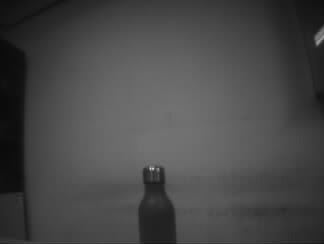Bottle: (138, 164, 175, 244)
